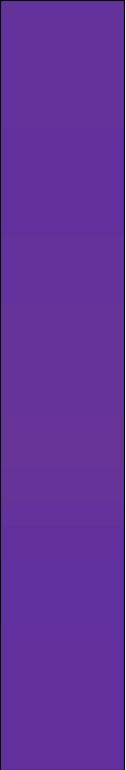safe: (6, 10, 118, 764)
